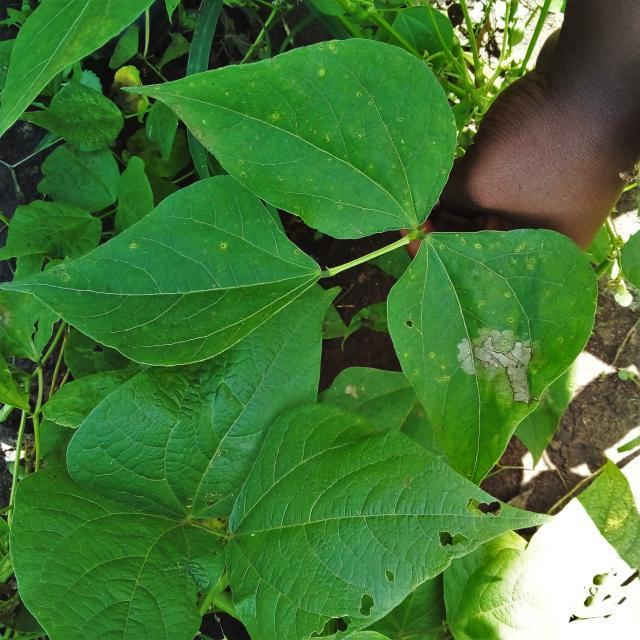hawar: (442, 316, 543, 413), (435, 485, 506, 557), (305, 590, 393, 640), (379, 567, 403, 586)
sehat: (69, 433, 235, 604), (252, 62, 431, 204), (111, 246, 310, 357), (261, 434, 349, 592)
